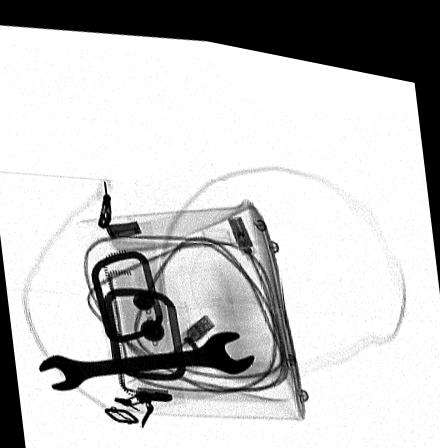Wrench: (37, 323, 256, 390)
